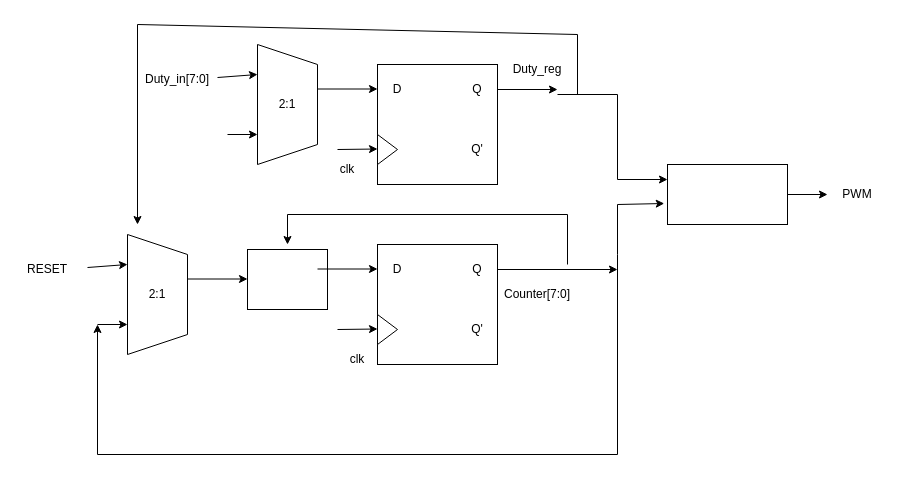
Image size: 904x480. Some labels were removed from this diagram. The centre of each missing label's shape, as x and y in pixels:
Adder: pixel 287 279
Comparator: pixel 727 194
